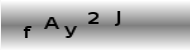2: (86, 11, 101, 25)
A: (43, 16, 60, 30)
J: (113, 9, 121, 27)
f: (21, 25, 33, 40)
y: (62, 25, 78, 39)
